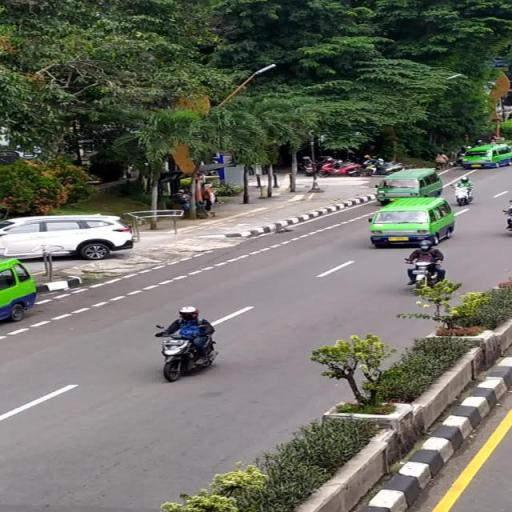Helmet: (180, 307, 199, 320), (420, 240, 431, 250), (461, 176, 469, 183), (364, 155, 371, 159), (378, 158, 383, 163)
Motor: (156, 332, 217, 382), (319, 160, 361, 177), (413, 261, 439, 287), (300, 156, 335, 175), (364, 159, 403, 175), (452, 186, 473, 206), (503, 206, 511, 230)
